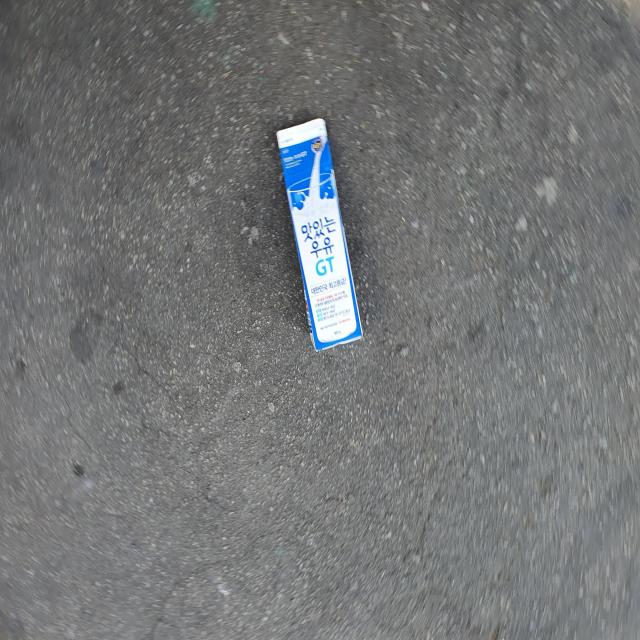paperpack: (276, 118, 363, 350)
